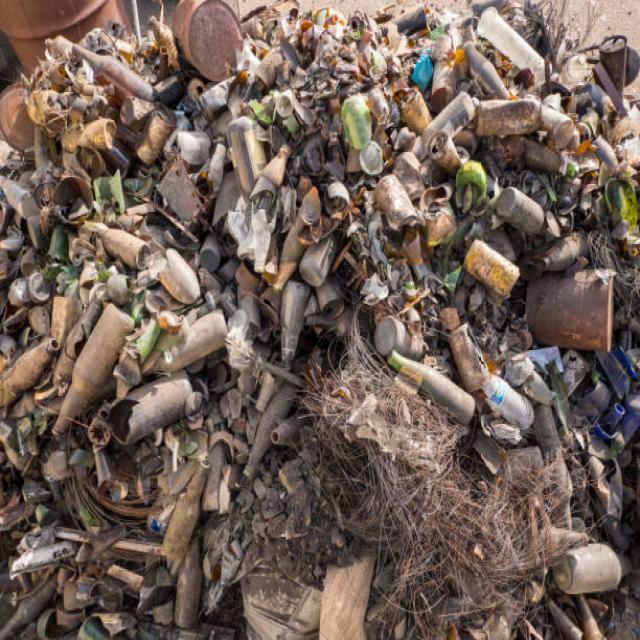glass: (6, 41, 503, 322)
